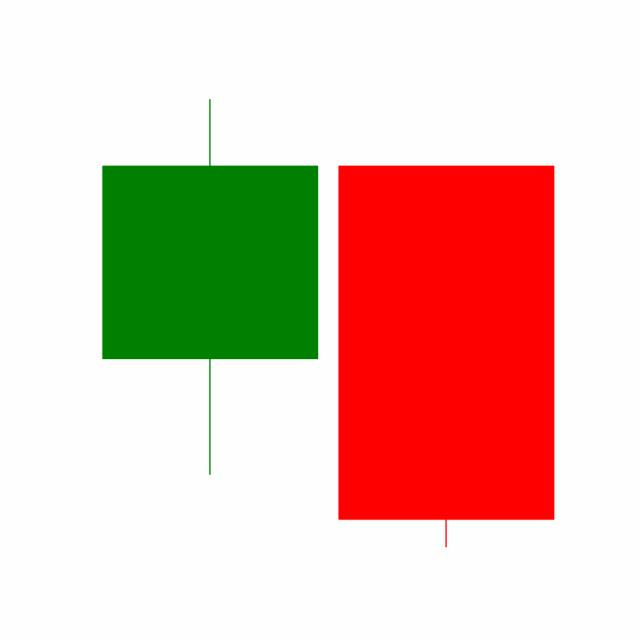Marubozu: (327, 161, 565, 552)
